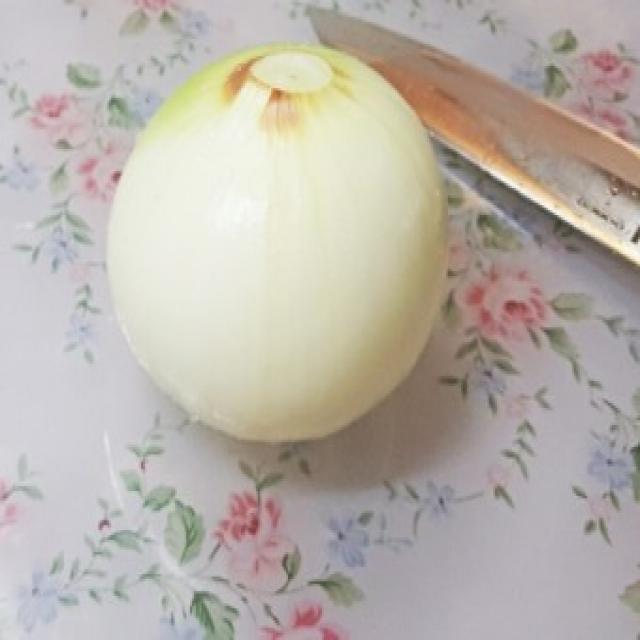onion: (102, 32, 455, 470)
